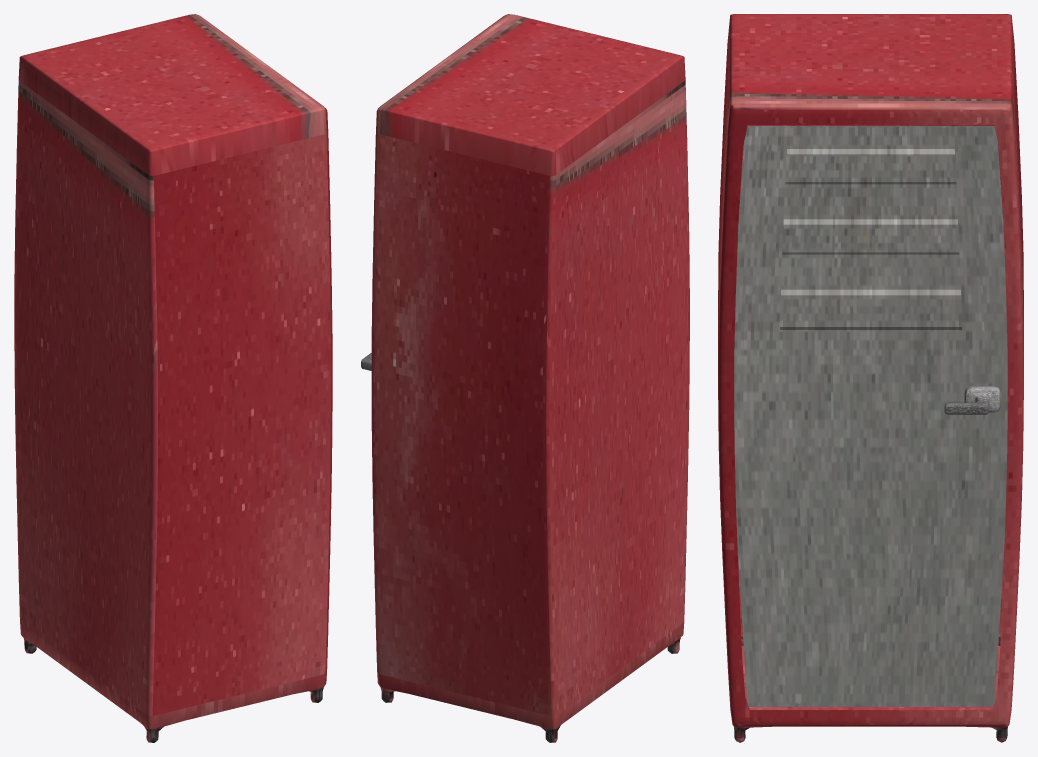
The model's file is LockerRed.fbx.
3 renders of one model, left to right at view 1: azimuth 30°, elevation 25°; view 2: azimuth 150°, elevation 25°; view 3: azimuth 270°, elevation 25°, orthographic. The views are drawn at different scales.
Parts seen in each view (by area): view 1: polySurface1; view 2: polySurface1; view 3: polySurface2, polySurface1, pCube1.
Part boxes in pixels (x1,y1,x2,y2): polySurface1: [14, 14, 332, 742]; polySurface1: [371, 14, 689, 742]; polySurface2: [734, 126, 1007, 706]; polySurface1: [718, 14, 1023, 742]; pCube1: [944, 386, 1000, 414].
Size of the model in its own units: 4.1 by 11.38 by 4.93.
Materials: 3 (3 with a texture image).
